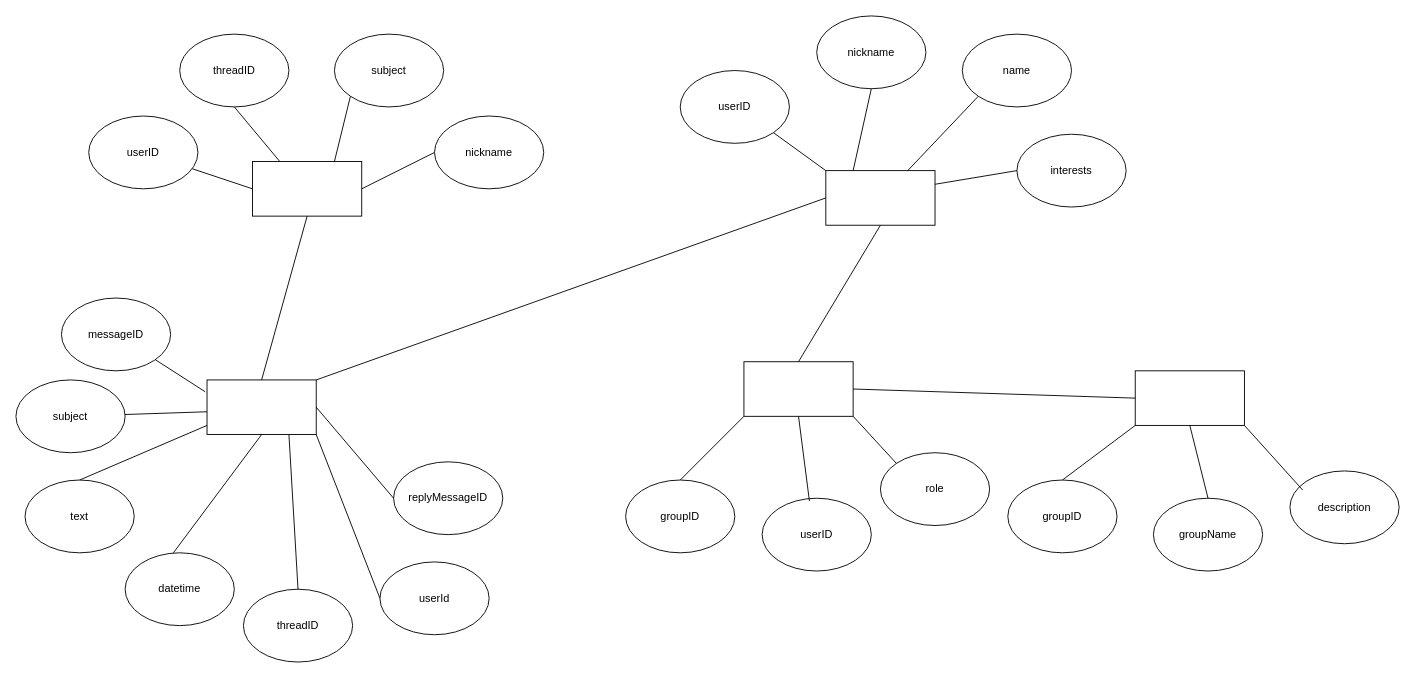
Image size: 1415x678. Some labels were removed from this diagram. The centre of each missing label's shape, as x and y in pixels:
"Group" goes at pixel 1189 397.
"membership" goes at pixel 798 388.
"Mesage" goes at pixel 261 407.
"Thread" goes at pixel 307 188.
"User" goes at pixel 880 197.
